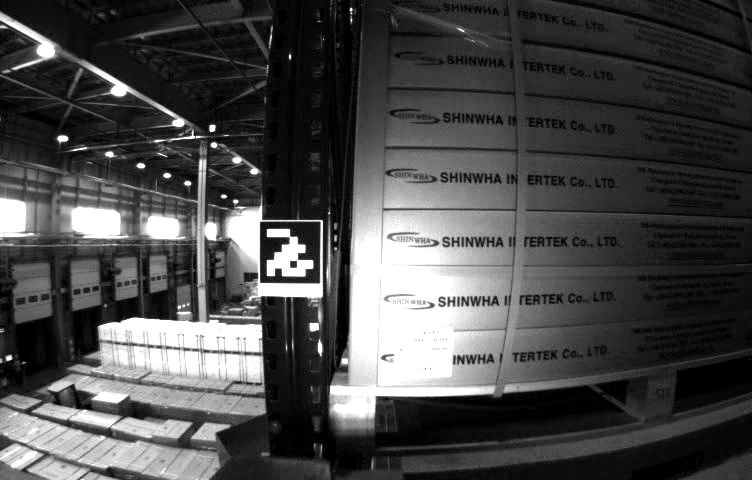True Barcode: (394, 325, 455, 378)
